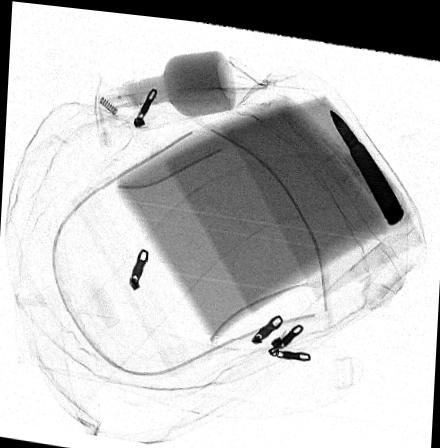Bullet: (328, 102, 404, 217)
